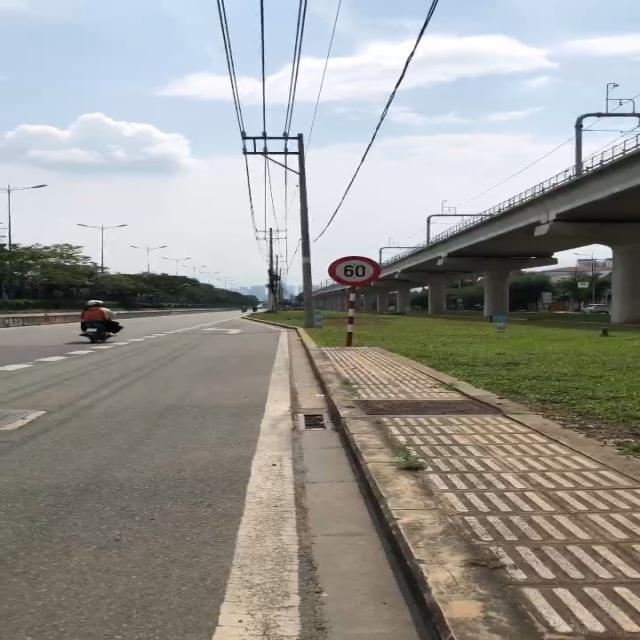Bien bao toc do toi da cho phep: (324, 253, 386, 287)
